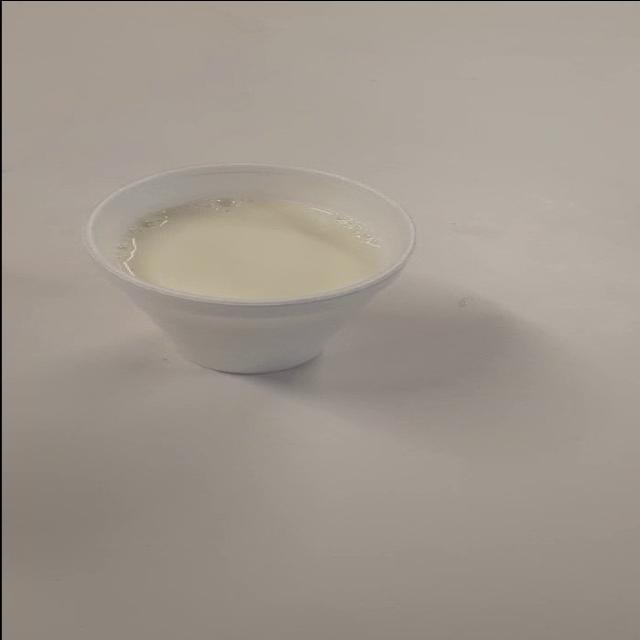Milk: (63, 153, 467, 397)
